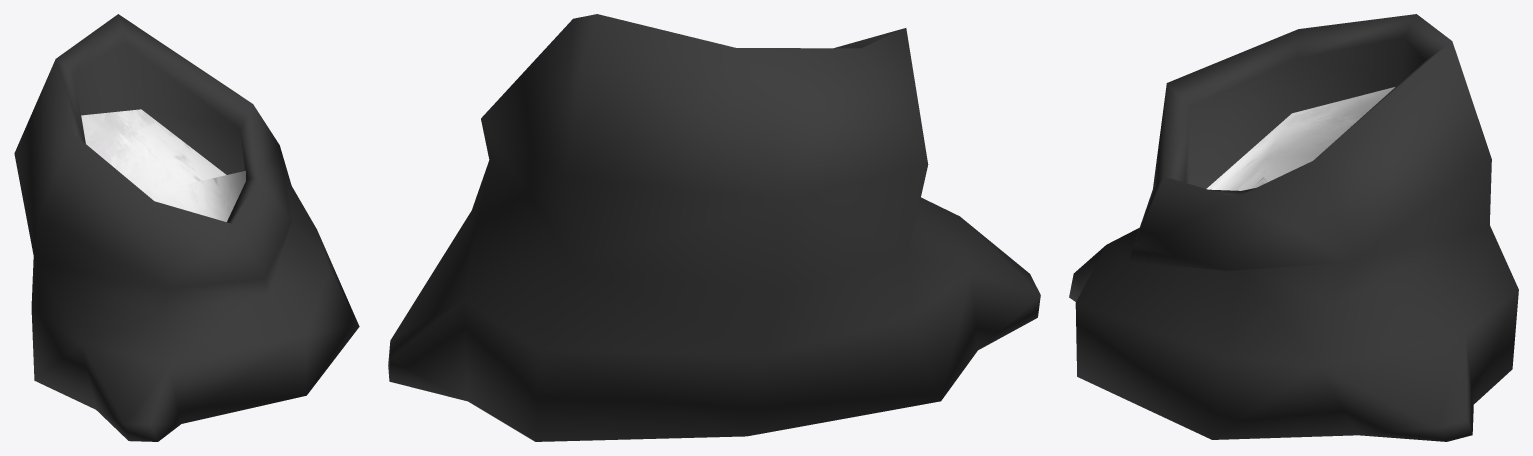
The model's file is SM_PROP_sack_08.FBX.
3 views of the same model, side by side, from view 1: azimuth 30°, elevation 25°; view 2: azimuth 150°, elevation 25°; view 3: azimuth 270°, elevation 25° (orthographic). The views are drawn at different scales.
Visible parts, largest first — view 1: SM_PROP_sack_08; view 2: SM_PROP_sack_08; view 3: SM_PROP_sack_08.
Part boxes in pixels (bbox=[...]): SM_PROP_sack_08: bbox=[14, 14, 359, 441]; SM_PROP_sack_08: bbox=[388, 14, 1040, 441]; SM_PROP_sack_08: bbox=[1069, 14, 1518, 441].
Bounding box in the file's own units: 62.24 × 68.44 × 55.29.
